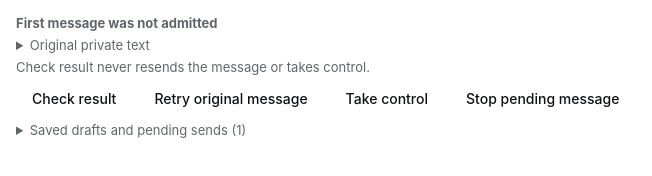
Test: a confirmed rejection offers explicit Retry; uncertain local attempts hide it
Click the button "Retry original message".
click(231, 98)  # box [138,80,324,116]
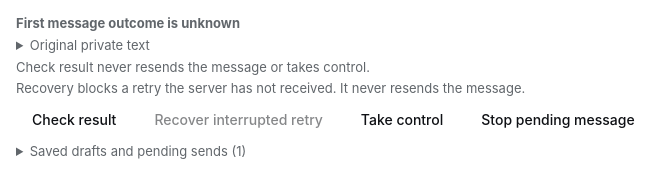
Expected: the text "First message outcome is unknown" is shown, [16,15,240,31]
